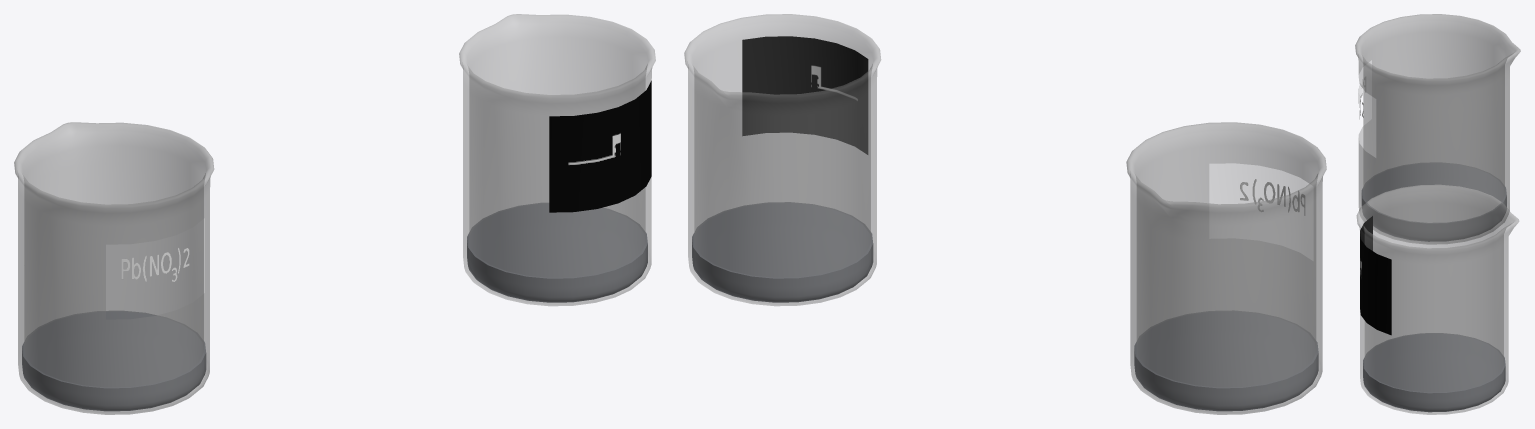
The model's file is potas_lead_experiment.fbx.
The picture shows the model from 3 angles, left to right: view 1: azimuth 30°, elevation 25°; view 2: azimuth 150°, elevation 25°; view 3: azimuth 270°, elevation 25°; orthographic projection. The views are drawn at different scales.
Visible parts, largest first — view 1: polySurface4, f, polySurface5, b; view 2: polySurface4, f, polySurface5, b; view 3: polySurface4, f, b, polySurface5.
Boxes of the visible parts, x1,y1,x2,y2 form: polySurface4: (14,122,214,414); f: (459,14,655,306); polySurface5: (22,311,206,411); b: (467,203,647,302); polySurface4: (1126,122,1326,414); f: (684,14,881,306); polySurface5: (1134,310,1318,411); b: (692,202,873,302); polySurface4: (1355,14,1520,244); f: (1356,184,1519,414); b: (1363,333,1505,412); polySurface5: (1361,162,1506,241).
Size of the model in its own units: 73.75 by 24.58 by 21.82.
5 materials, 2 textured.
